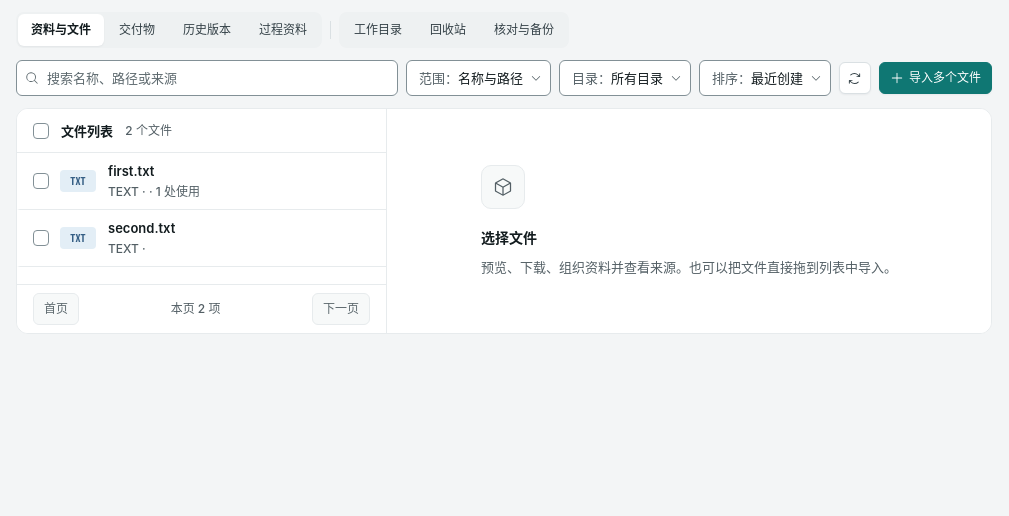
file workspace › shows actual batch failures, preserves failed selection and confirms dependency impact
The image size is (1009, 516).
Click the checkbox named "选择 first.txt" at point(41, 181), box top-left (33, 173), bottom-right (49, 189)
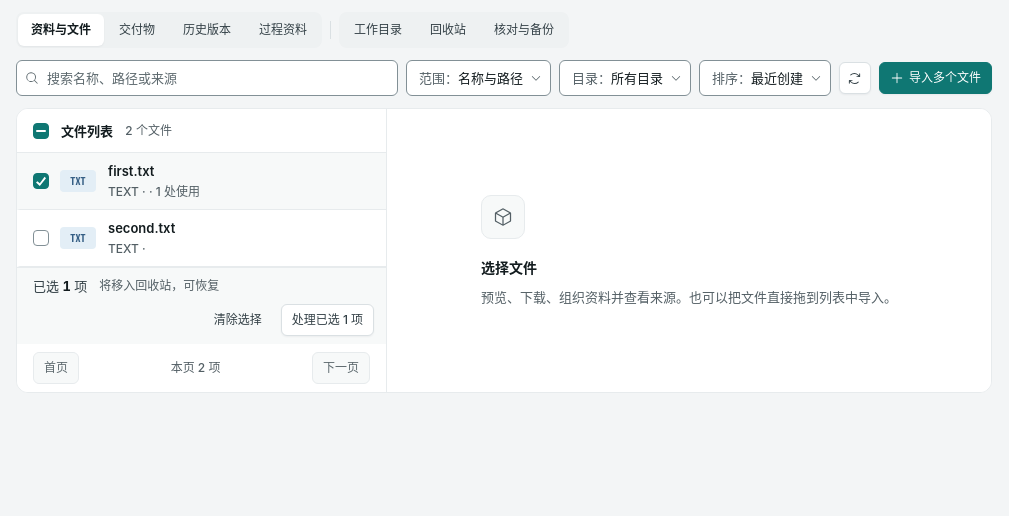
Click the checkbox named "选择 second.txt" at point(41, 238), box top-left (33, 230), bottom-right (49, 246)
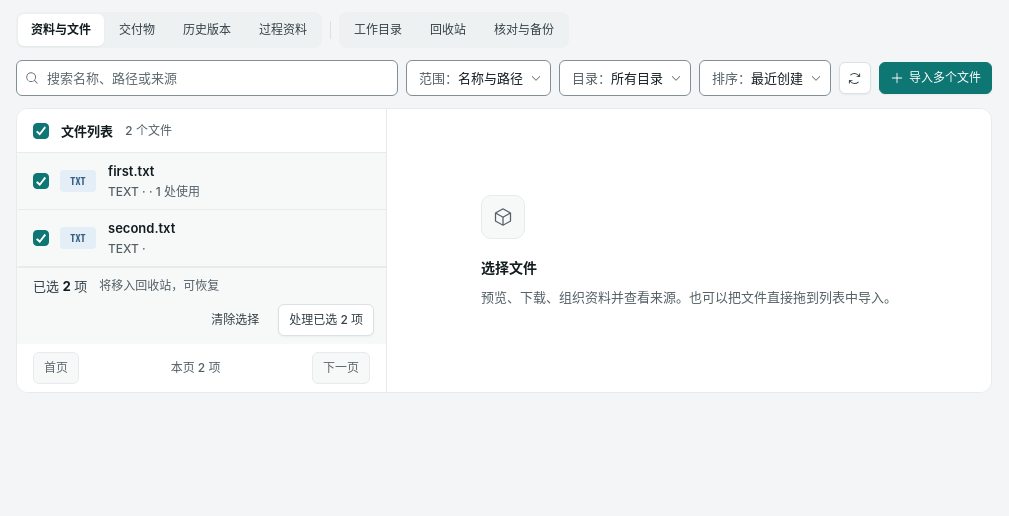
Click the button "处理已选 2 项" at point(326, 320), box top-left (278, 304), bottom-right (374, 336)
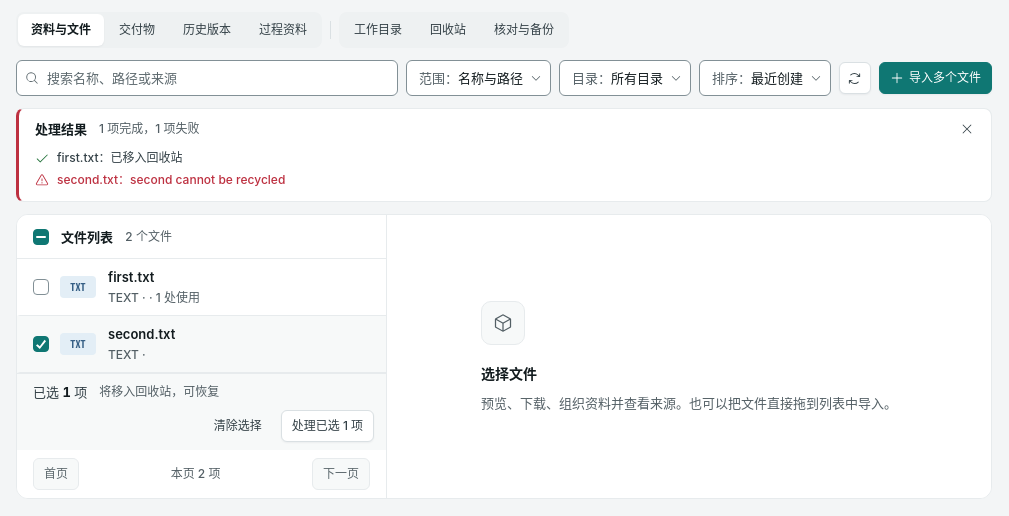
Expected: the checkbox named "选择 first.txt" is not checked, top-left (33, 279), bottom-right (49, 295)
Expected: the checkbox named "选择 second.txt" is checked, top-left (33, 336), bottom-right (49, 352)
Expected: the list item "second.txt：second cannot be recycled" is shown, top-left (35, 172), bottom-right (285, 187)
